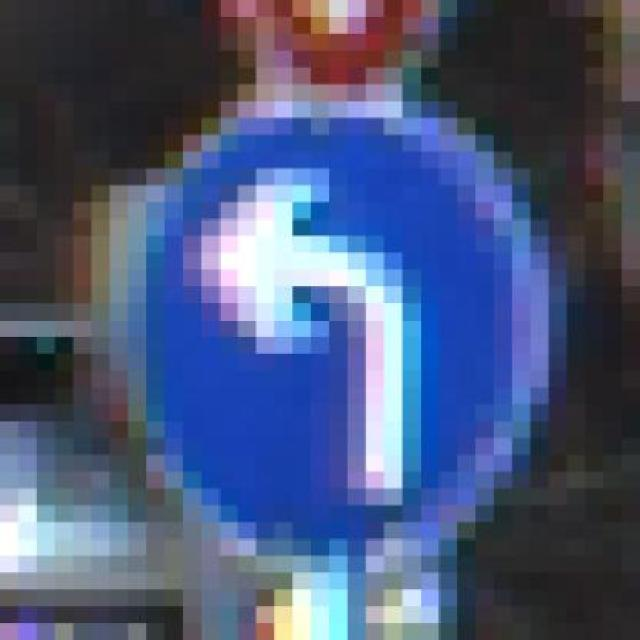Turn left ahead: (128, 101, 568, 556)
